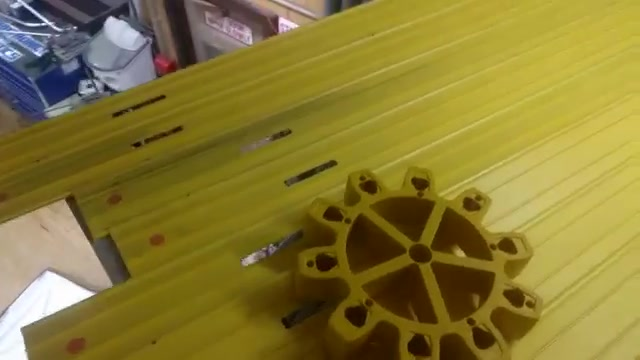gear: (279, 159, 547, 360)
